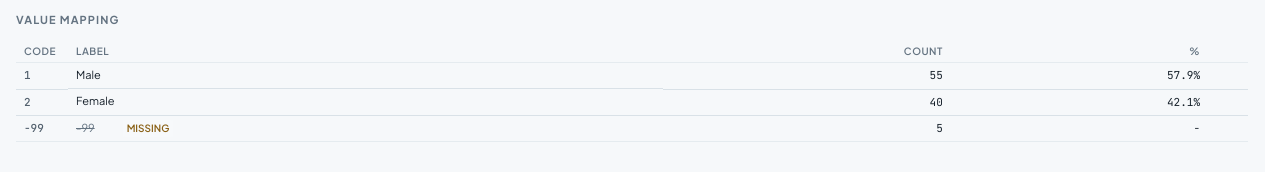
Scenario: InspectorStats interactions › exits edit mode without saving when Escape is pressed
Click the text "Male" at (88, 75), box [76, 66, 101, 84]
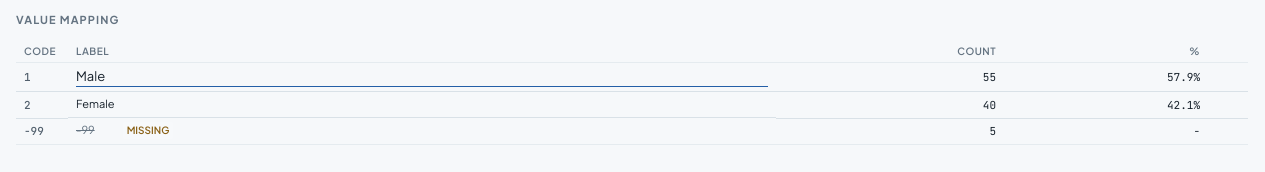
Press Escape in the field, box [76, 66, 768, 87]
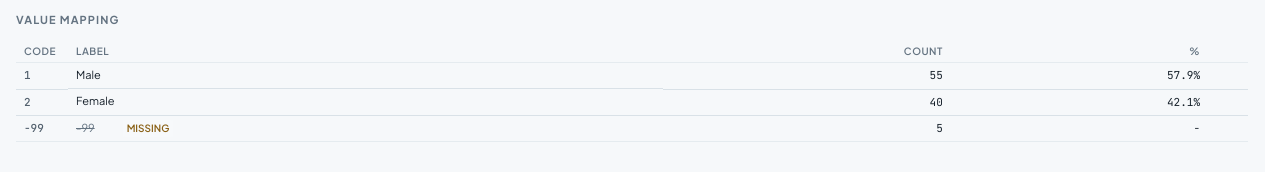
Result: the field is gone
